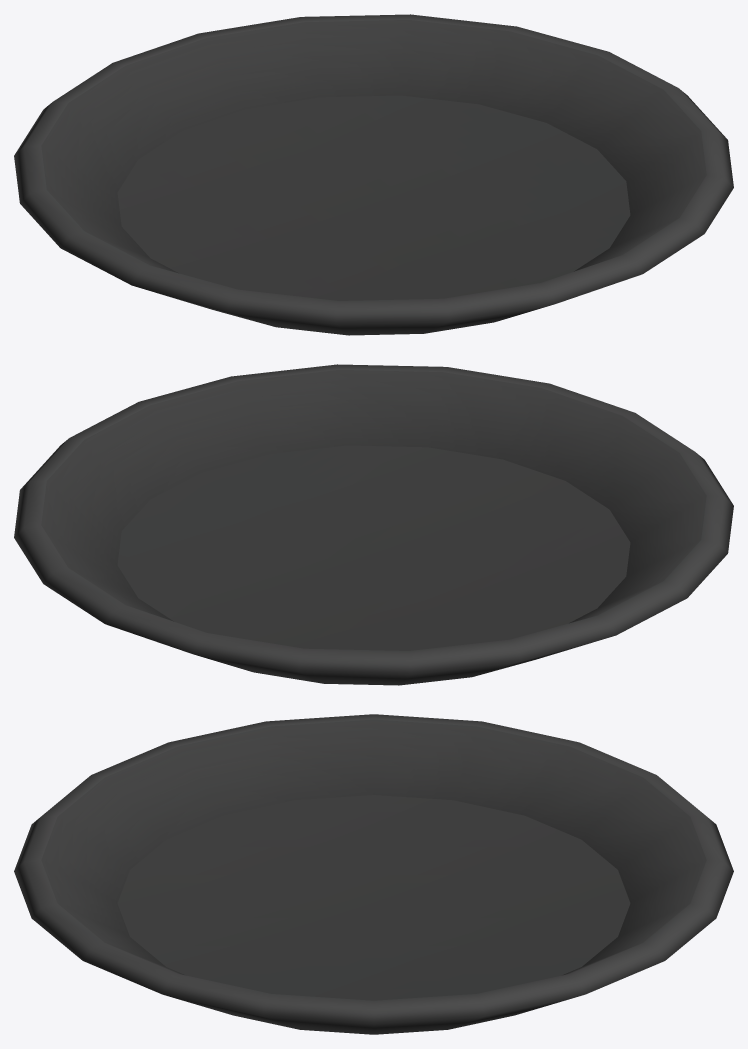
The model's file is black_plate.glb.
The picture shows the model from 3 angles, top to bottom: view 1: azimuth 30°, elevation 25°; view 2: azimuth 150°, elevation 25°; view 3: azimuth 270°, elevation 25°; orthographic projection.
Parts seen in each view (by area): view 1: SM_Dish_Av1; view 2: SM_Dish_Av1; view 3: SM_Dish_Av1.
Part boxes in pixels (box(x1,y1,x2,y2)): SM_Dish_Av1: box(14, 14, 733, 335); SM_Dish_Av1: box(14, 364, 733, 685); SM_Dish_Av1: box(14, 714, 733, 1034).
Bounding box in the file's own units: 0.7473 × 0.084 × 0.7473.
1 material, 1 textured.
